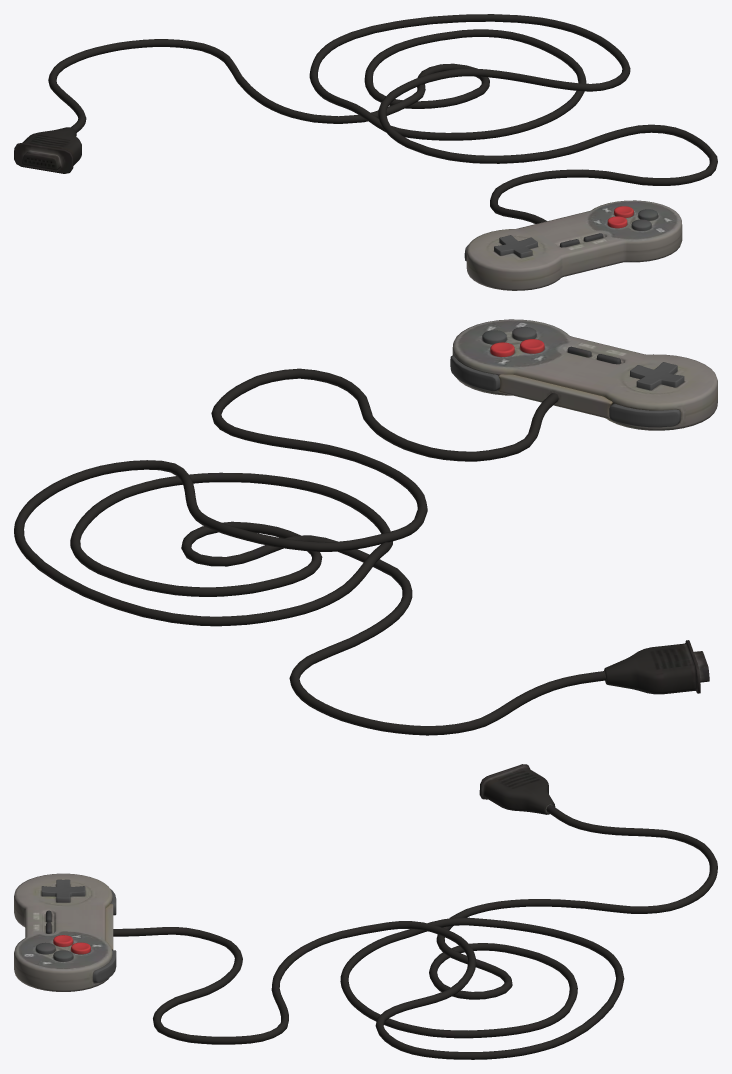
Rendered from gamepad.glb.
The picture shows the model from 3 angles, top to bottom: view 1: azimuth 30°, elevation 25°; view 2: azimuth 150°, elevation 25°; view 3: azimuth 270°, elevation 25°; orthographic projection. The views are drawn at different scales.
Visible parts, largest first — view 1: gamepad; view 2: gamepad; view 3: gamepad.
Part boxes in pixels (<box>): gamepad: <box>14,14,717,290</box>; gamepad: <box>14,319,717,735</box>; gamepad: <box>14,764,717,1059</box>.
Size of the model in its own units: 0.4041 by 0.0189 by 0.435.
Materials: 1 (1 with a texture image).
